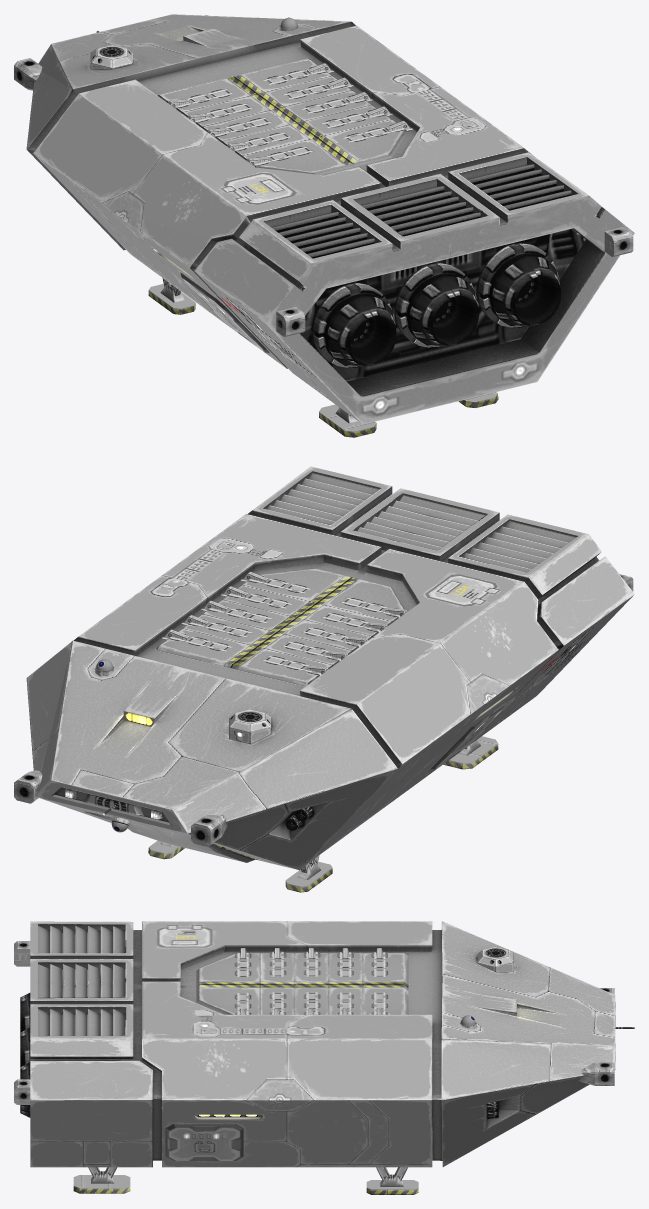
File: nerodia_medium_freighter_by_torham2234.glb
3 views of the same model, one above another, from view 1: azimuth 30°, elevation 25°; view 2: azimuth 150°, elevation 25°; view 3: azimuth 270°, elevation 25° (orthographic). The views are drawn at different scales.
Parts seen in each view (by area): view 1: Material-material (×2); view 2: Material-material (×2); view 3: Material-material (×2).
Boxes of the visible parts, left/top/right/bottom form: Material-material (×2): left=14, top=14, right=634, bottom=437; Material-material (×2): left=14, top=466, right=634, bottom=892; Material-material (×2): left=14, top=921, right=634, bottom=1194.
Bounding box in the file's own units: 24.7 × 13.52 × 41.35.
1 material, 1 textured.
